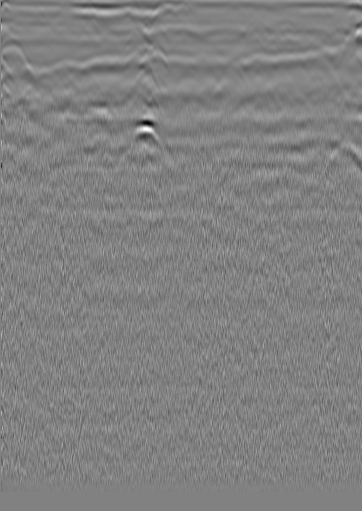가스: (127, 116, 163, 150)
상수: (300, 10, 320, 30)
오수: (28, 8, 48, 28)
우수: (167, 4, 192, 25)
